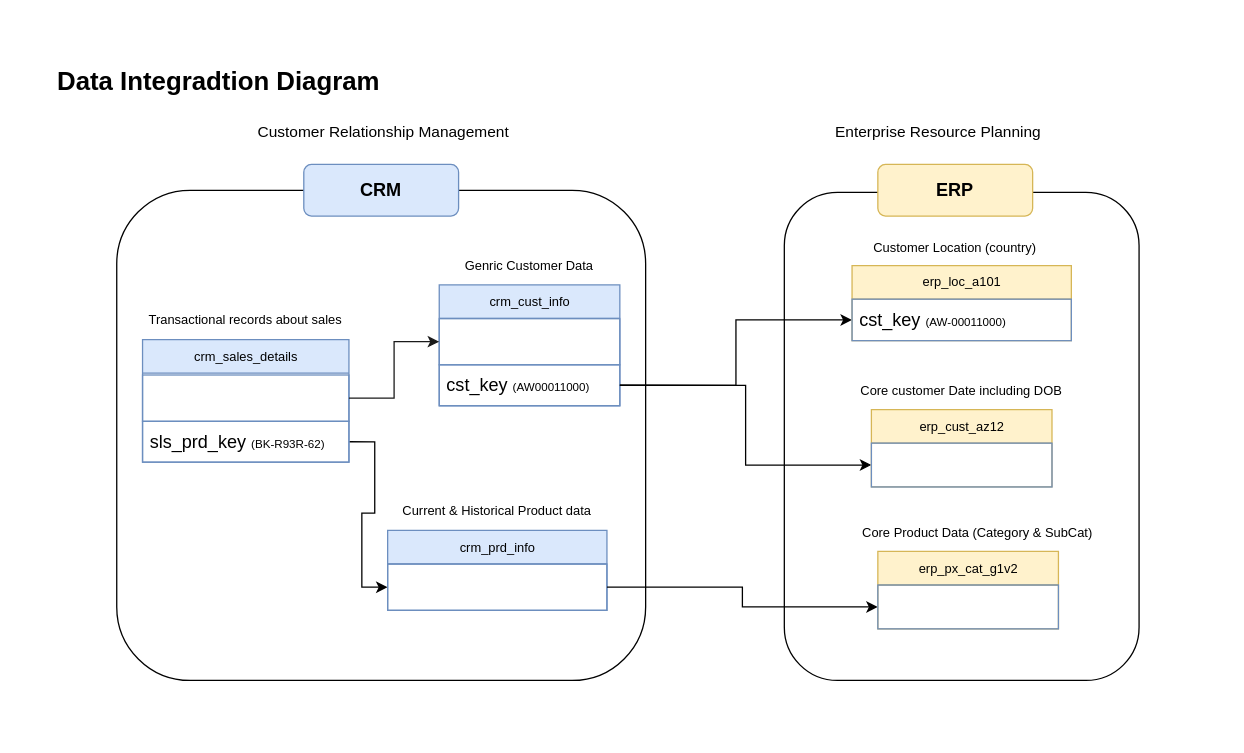
The diagram is 1244 pixels wide and 753 high, and some of its shapes have lost their labels. Each missing label, with the centre of its shape:
"cid (NAS AW00011000 )" goes at point (961, 464).
"cst_id (11000)" goes at point (529, 341).
"id ( AC_BR )" goes at point (967, 606).
"prd_key ( CO-RF - FR-R92B-58 )" goes at point (496, 586).
"sls_cust_id (11000)" goes at point (245, 397).
